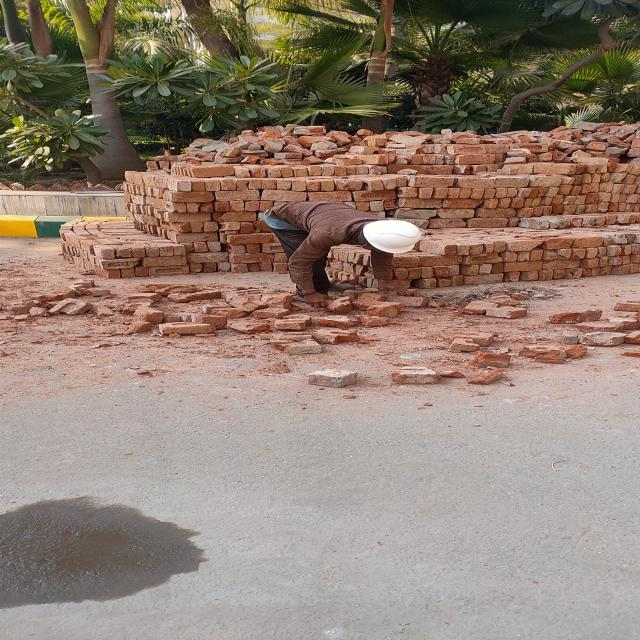no jacket: (264, 201, 421, 307)
